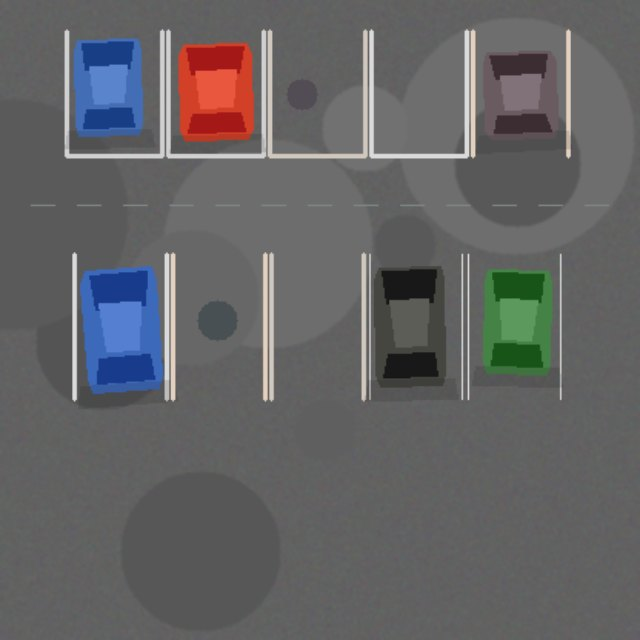space-empty: (172, 254, 265, 398), (271, 254, 363, 398), (269, 31, 365, 155), (371, 31, 466, 155)
space-occupied: (369, 254, 462, 398), (74, 254, 166, 398), (468, 254, 560, 398), (66, 31, 162, 155), (472, 31, 568, 155), (168, 31, 263, 155)
